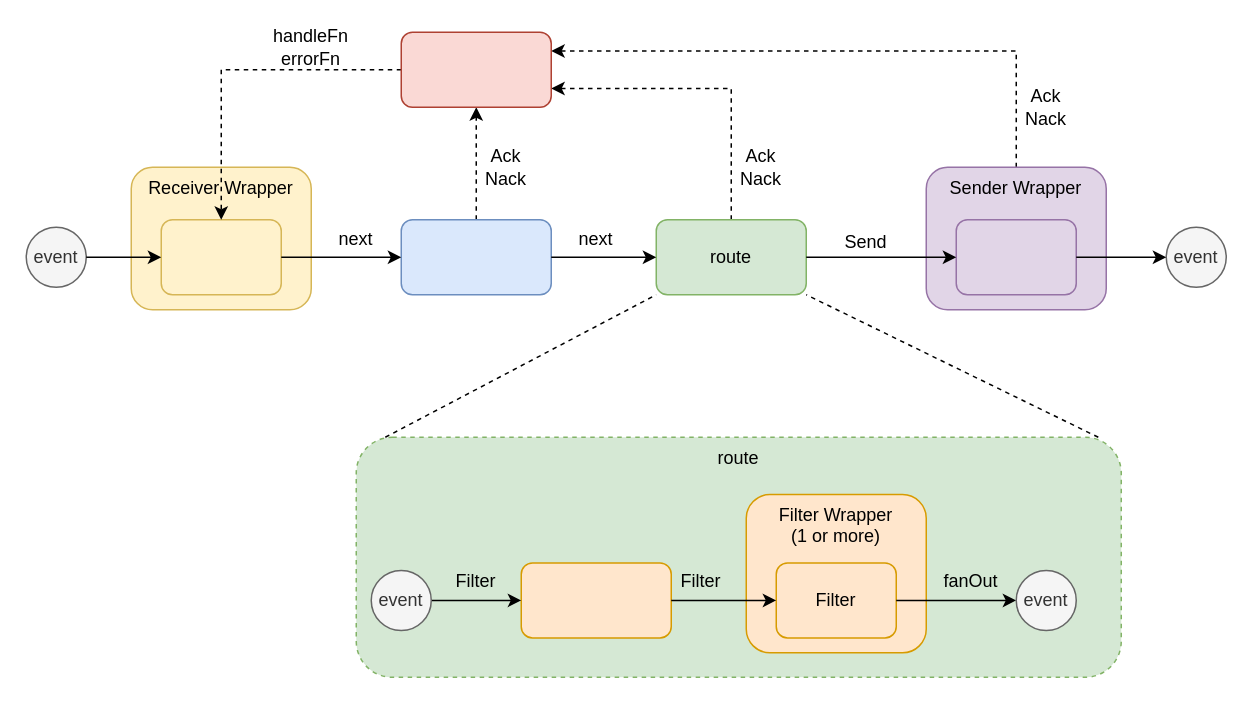
Some shapes in this 1253 by 716 pixel diagram are drawn without their labels. Here are the shapes that lost their labels. From the top down, the centre of each, then its label:
pixel 475 69: AckTree
pixel 220 256: Receiver
pixel 475 256: plugin manager
pixel 1015 256: Sender
pixel 595 599: filter chain
